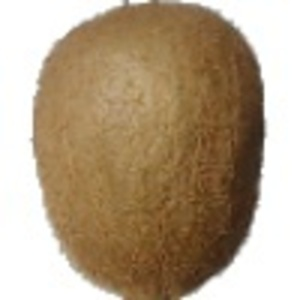kiwi: (29, 1, 267, 300)
